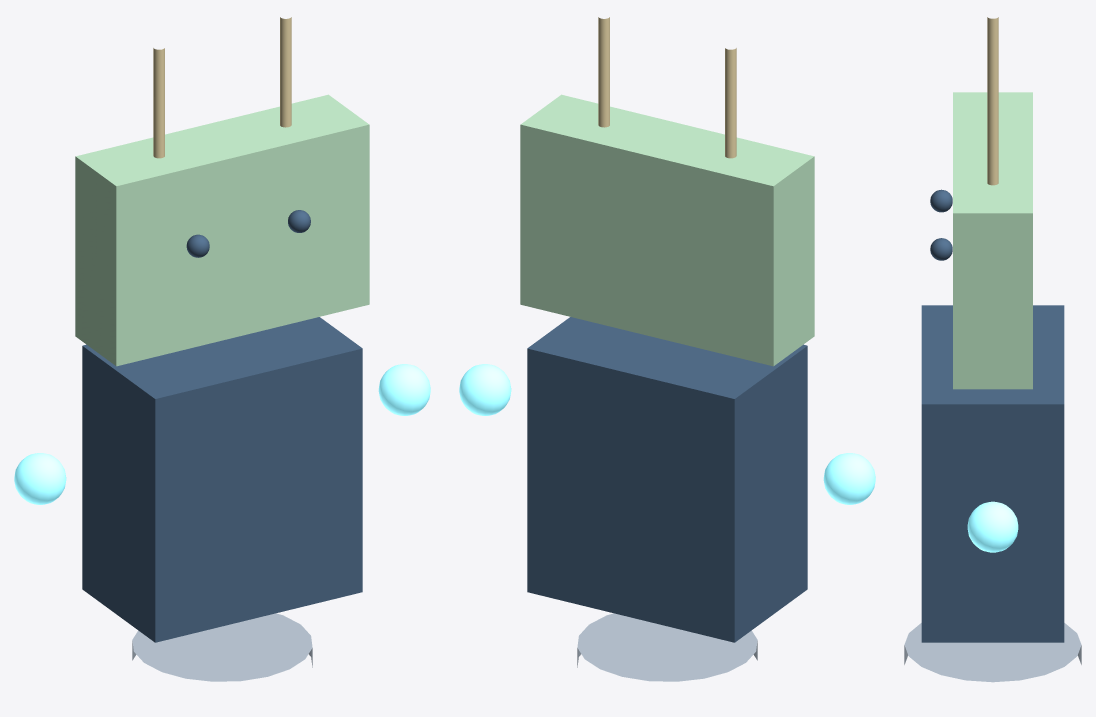
Rendered from mint-helper-bot.glb.
3 renders of one model, left to right at view 1: azimuth 30°, elevation 25°; view 2: azimuth 150°, elevation 25°; view 3: azimuth 270°, elevation 25°, orthographic. The views are drawn at different scales.
Parts seen in each view (by area): view 1: mint-helper-bot-body-core, mint-helper-bot-screen-head, mint-helper-bot-hover-ring, mint-helper-bot-right-hand, mint-helper-bot-left-hand, mint-helper-bot-left-antenna, mint-helper-bot-right-antenna; view 2: mint-helper-bot-body-core, mint-helper-bot-screen-head, mint-helper-bot-hover-ring, mint-helper-bot-right-hand, mint-helper-bot-left-hand, mint-helper-bot-left-antenna, mint-helper-bot-right-antenna; view 3: mint-helper-bot-body-core, mint-helper-bot-screen-head, mint-helper-bot-hover-ring, mint-helper-bot-right-hand, mint-helper-bot-right-antenna, mint-helper-bot-left-antenna, mint-helper-bot-right-eye, mint-helper-bot-left-eye.
Boxes of the visible parts, x1=… form: mint-helper-bot-body-core: x1=82, y1=317, x2=362, y2=642; mint-helper-bot-screen-head: x1=75, y1=94, x2=369, y2=366; mint-helper-bot-hover-ring: x1=132, y1=613, x2=312, y2=681; mint-helper-bot-right-hand: x1=378, y1=364, x2=430, y2=415; mint-helper-bot-left-hand: x1=14, y1=453, x2=66, y2=504; mint-helper-bot-left-antenna: x1=153, y1=48, x2=164, y2=158; mint-helper-bot-right-antenna: x1=280, y1=17, x2=291, y2=127; mint-helper-bot-body-core: x1=527, y1=317, x2=807, y2=642; mint-helper-bot-screen-head: x1=520, y1=94, x2=814, y2=366; mint-helper-bot-hover-ring: x1=577, y1=613, x2=757, y2=681; mint-helper-bot-right-hand: x1=459, y1=364, x2=511, y2=415; mint-helper-bot-left-hand: x1=823, y1=453, x2=875, y2=504; mint-helper-bot-left-antenna: x1=725, y1=48, x2=736, y2=158; mint-helper-bot-right-antenna: x1=598, y1=17, x2=609, y2=127; mint-helper-bot-body-core: x1=921, y1=305, x2=1064, y2=642; mint-helper-bot-screen-head: x1=953, y1=92, x2=1032, y2=389; mint-helper-bot-hover-ring: x1=904, y1=623, x2=1081, y2=682; mint-helper-bot-right-hand: x1=967, y1=501, x2=1018, y2=552; mint-helper-bot-right-antenna: x1=987, y1=77, x2=998, y2=185; mint-helper-bot-left-antenna: x1=987, y1=17, x2=998, y2=79; mint-helper-bot-right-eye: x1=930, y1=238, x2=952, y2=260; mint-helper-bot-left-eye: x1=930, y1=189, x2=952, y2=212.
Size of the model in its own units: 1.62 by 2.39 by 0.62.
